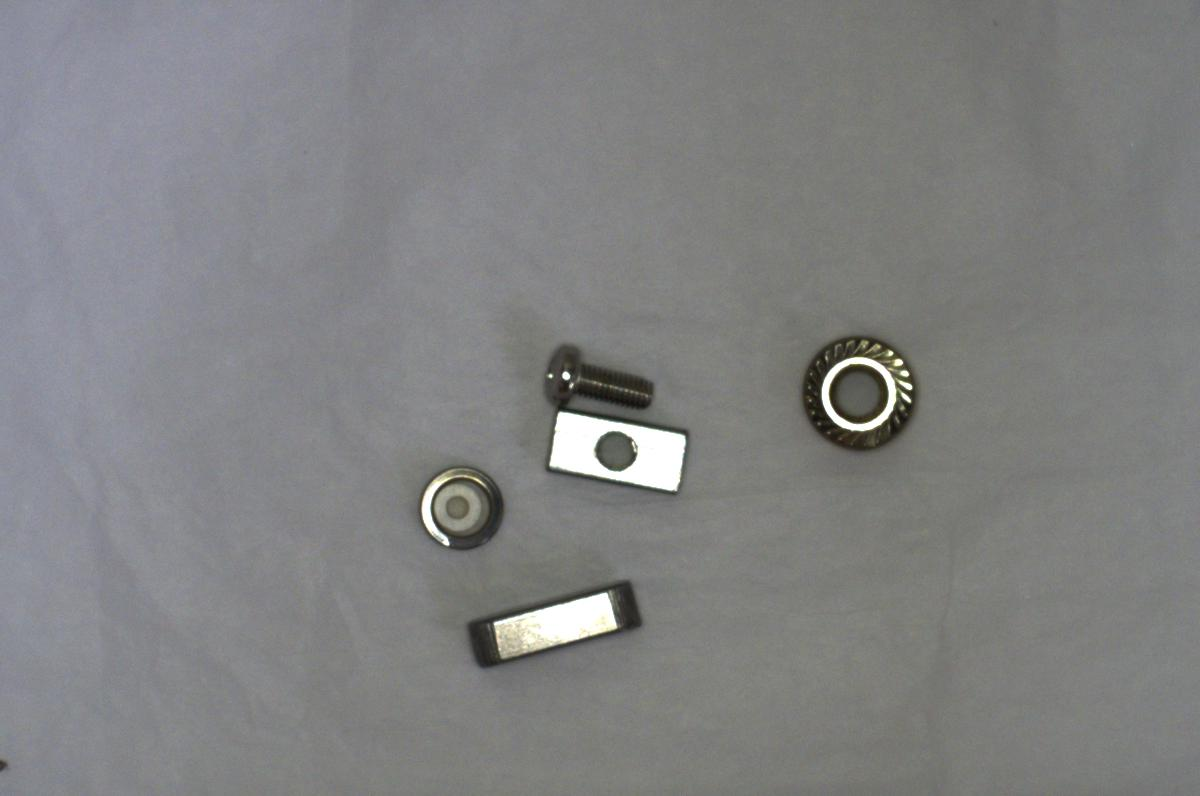Flange nut: (785, 323, 921, 453)
Keybar: (458, 576, 653, 670)
Plastic cushion pillar: (432, 481, 481, 533)
Rectangular nut: (538, 403, 694, 499)
Round head screw: (538, 334, 661, 416)
Spring washer: (410, 459, 511, 559)
